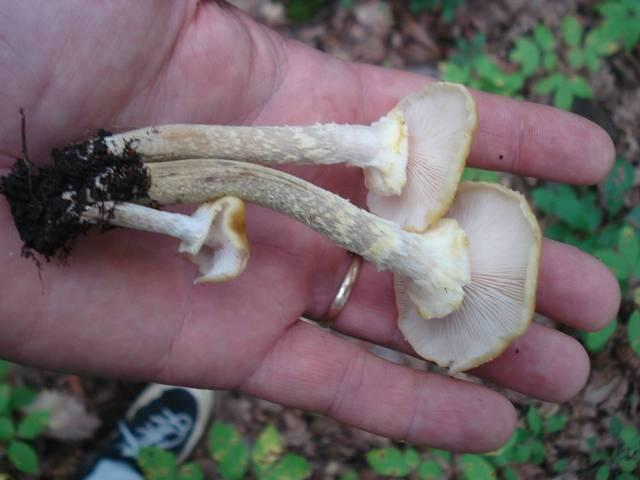edible_mushroom: (37, 79, 543, 375)
